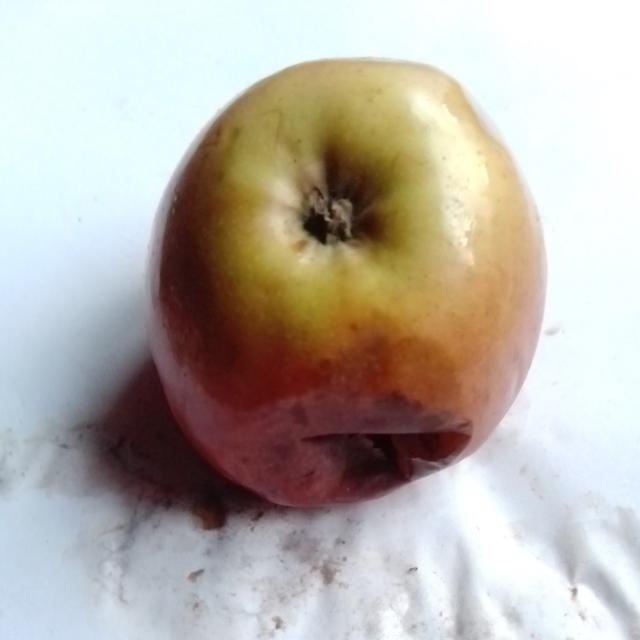apple: (148, 60, 545, 505)
